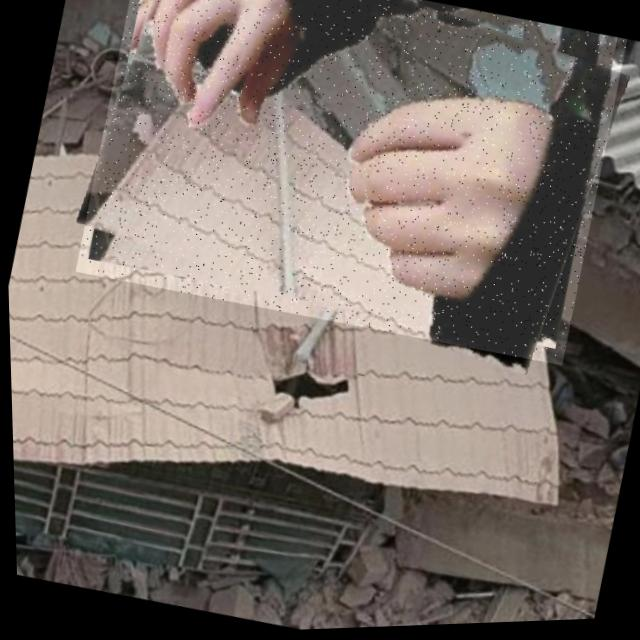Person in Rubble: (67, 0, 634, 383)
